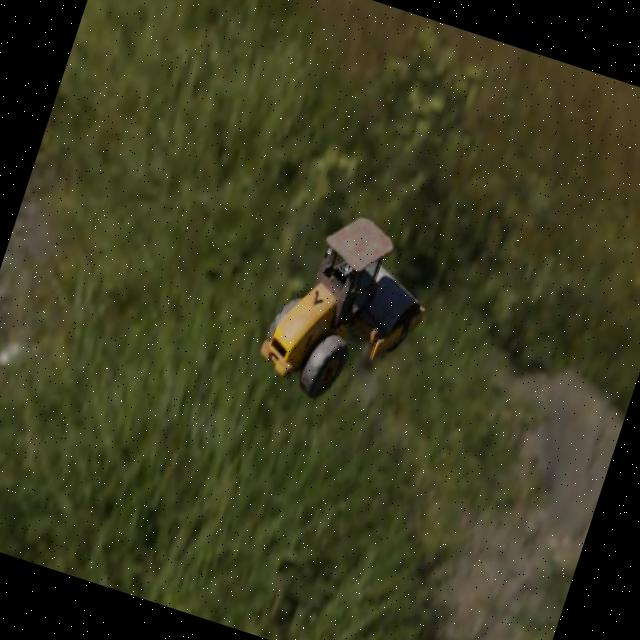Roller: (250, 200, 447, 423)
